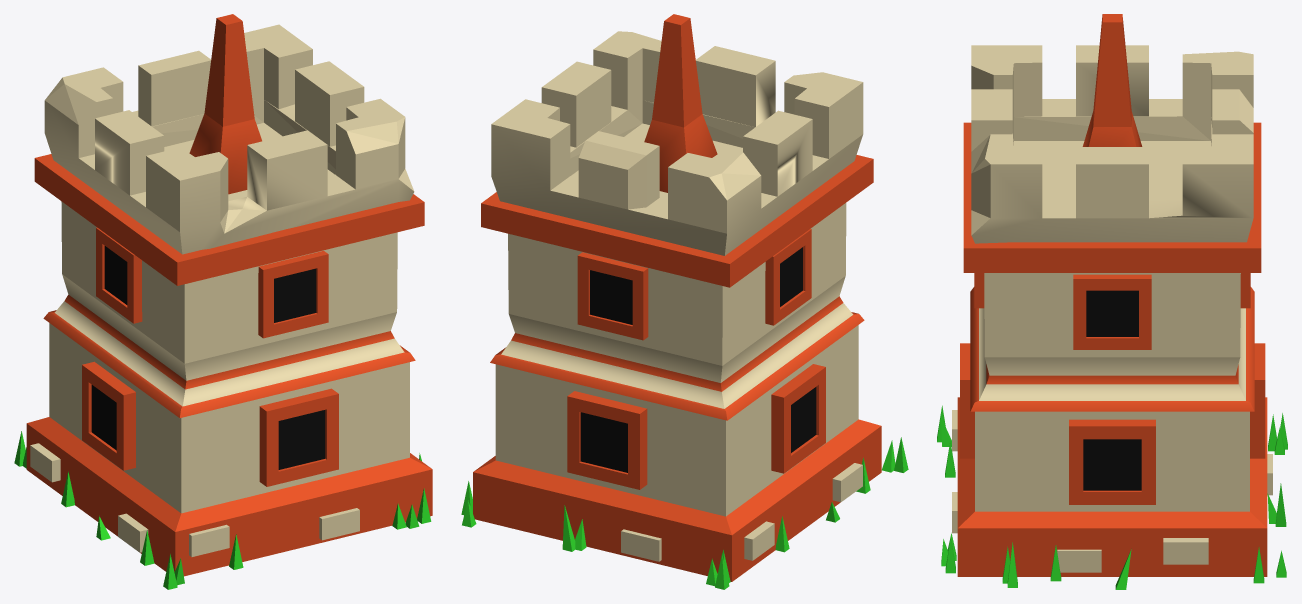
Rendered from Tower lvl2.fbx.
3 views of the same model, side by side, from view 1: azimuth 30°, elevation 25°; view 2: azimuth 150°, elevation 25°; view 3: azimuth 270°, elevation 25° (orthographic). The views are drawn at different scales.
Parts seen in each view (by area): view 1: Turret Tower 01, Turret Tower 01.001; view 2: Turret Tower 01, Turret Tower 01.001; view 3: Turret Tower 01, Turret Tower 01.001.
Boxes of the visible parts, box(x1,y1,x2,y2) form: Turret Tower 01: box(14, 24, 432, 589); Turret Tower 01.001: box(189, 14, 261, 194); Turret Tower 01: box(461, 31, 908, 589); Turret Tower 01.001: box(644, 14, 717, 192); Turret Tower 01: box(937, 45, 1287, 589); Turret Tower 01.001: box(1082, 14, 1142, 146).
Size of the model in its own units: 397 by 598 by 386.
